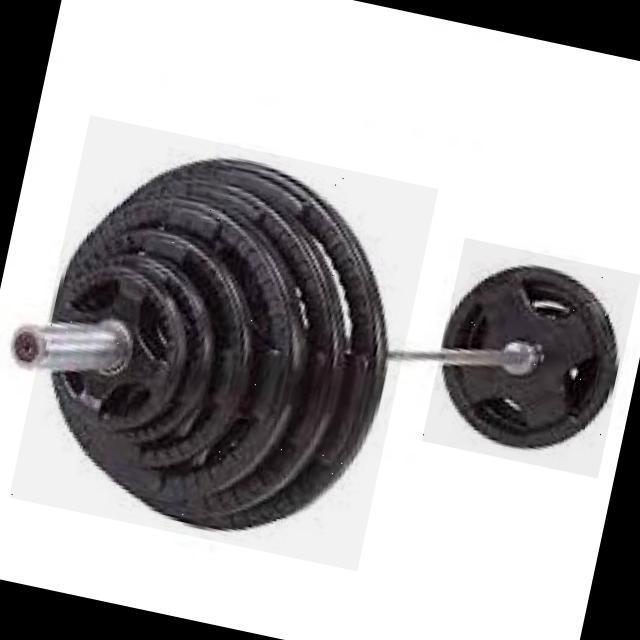barbell: (9, 116, 439, 572), (423, 238, 640, 479)
